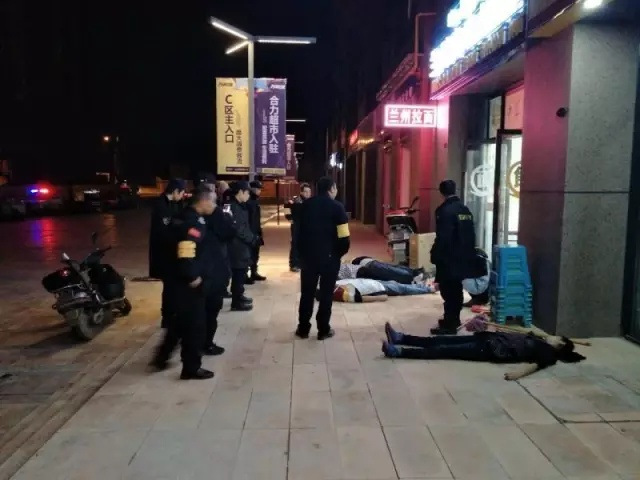falling: (327, 245, 437, 302)
